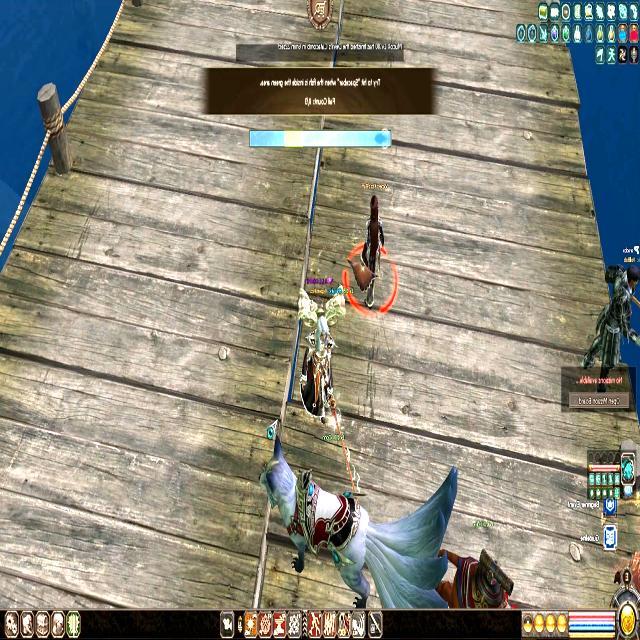fishes: (375, 130, 388, 146)
